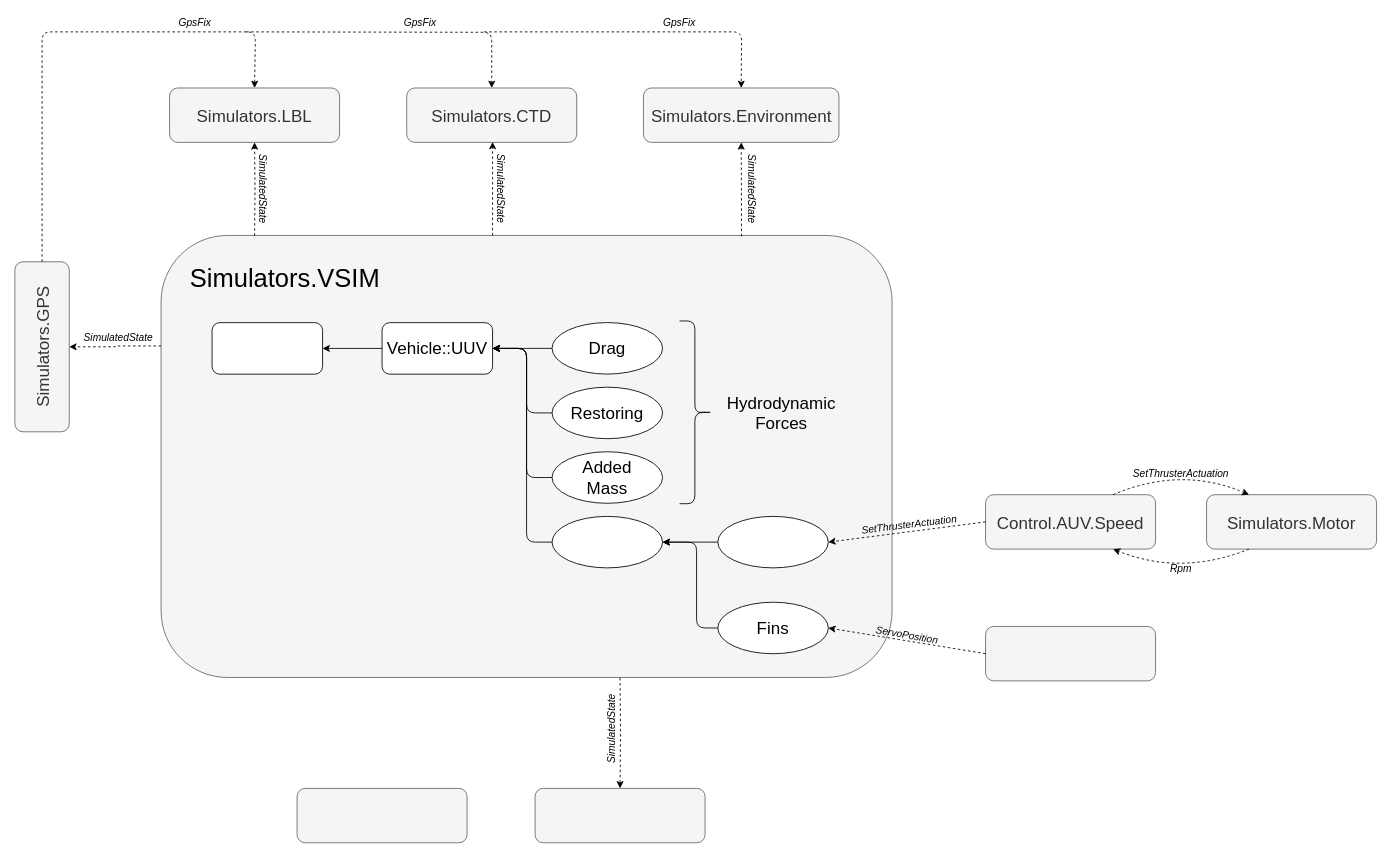
This 1391x858 diagram has some shape labels left out. The shapes that lost their labels are listed below. From the top down, each one's box as (x1, y1, x2, y2) in pixels, then its label:
(211, 322, 323, 374): World
(551, 516, 663, 568): Control
(717, 516, 828, 568): Engine
(985, 626, 1156, 681): Simulators. Servos
(296, 788, 467, 843): Simulators. Leaks
(534, 788, 705, 843): Simulators. Gaussian
